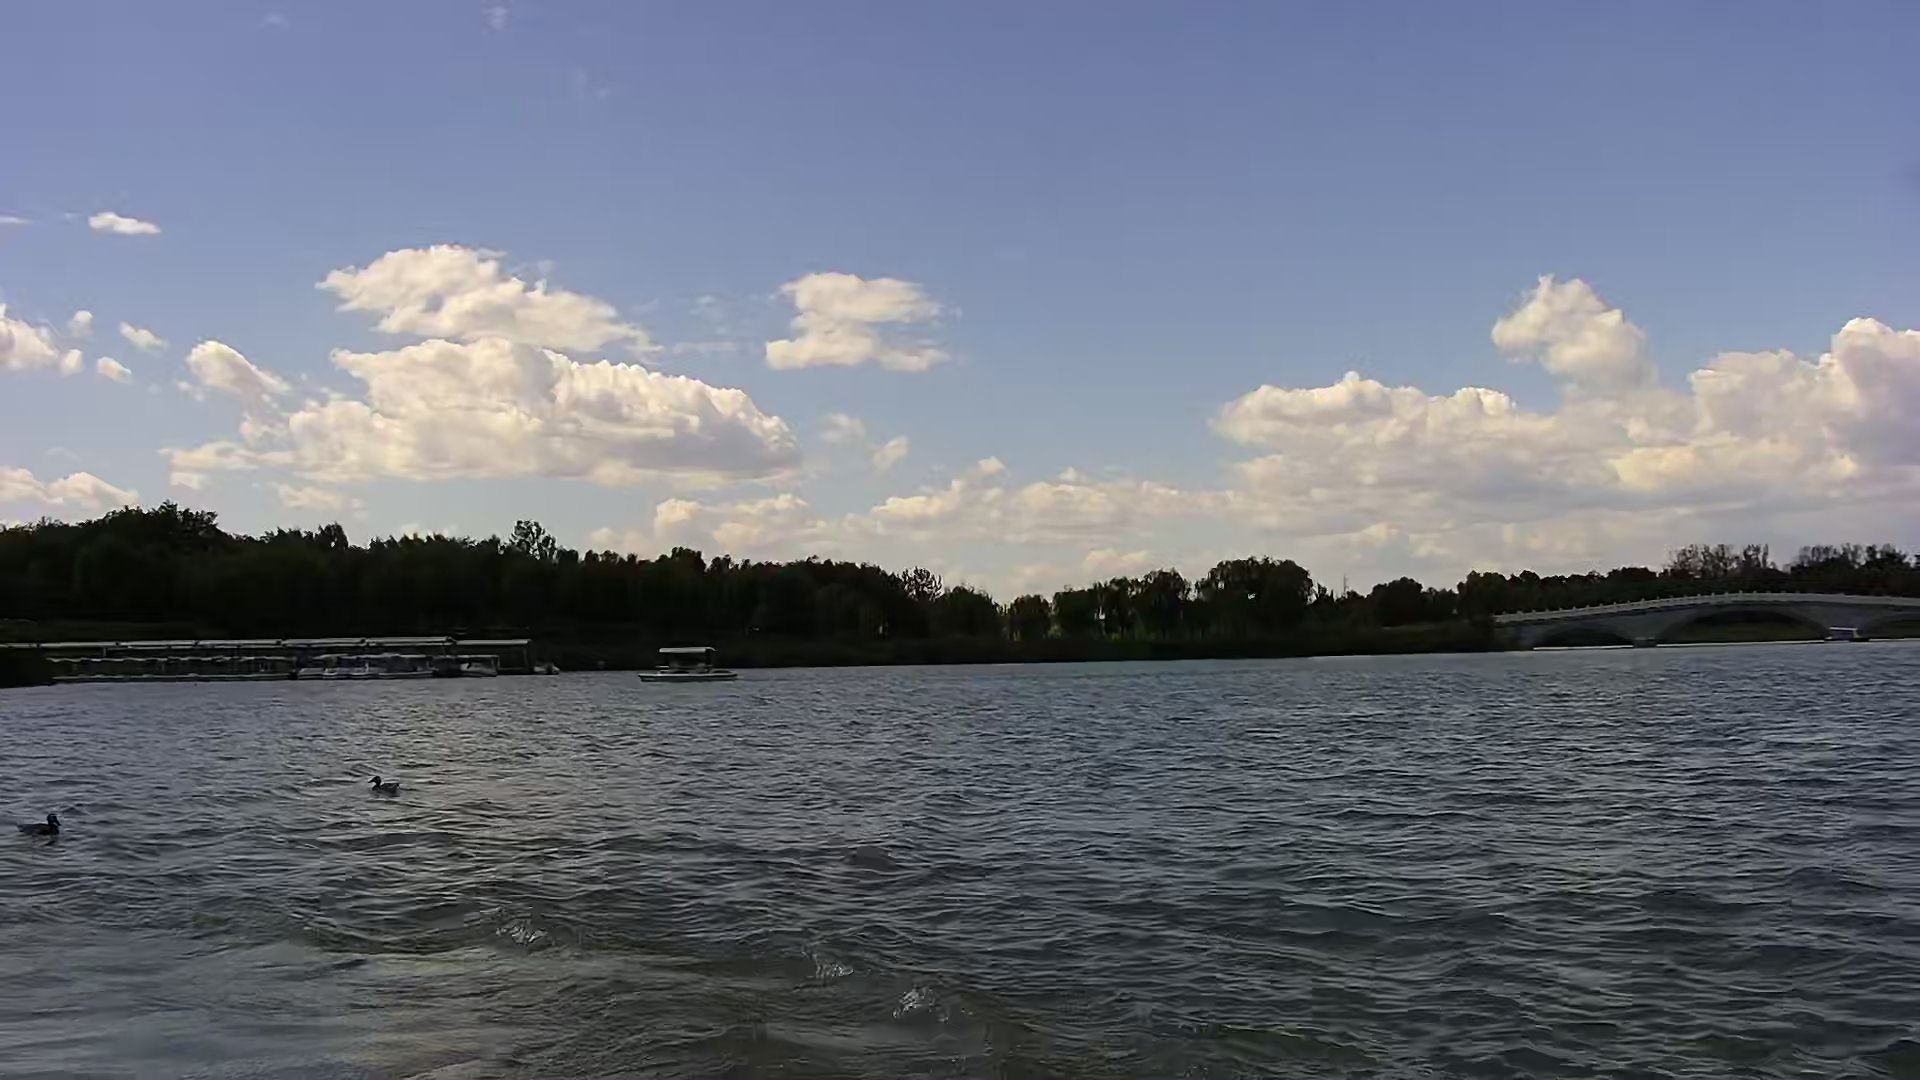animal: (13, 804, 66, 844), (363, 774, 409, 802)
boat: (637, 646, 748, 684)
bridge: (1490, 589, 1920, 654)
harbor: (1, 637, 558, 680)
